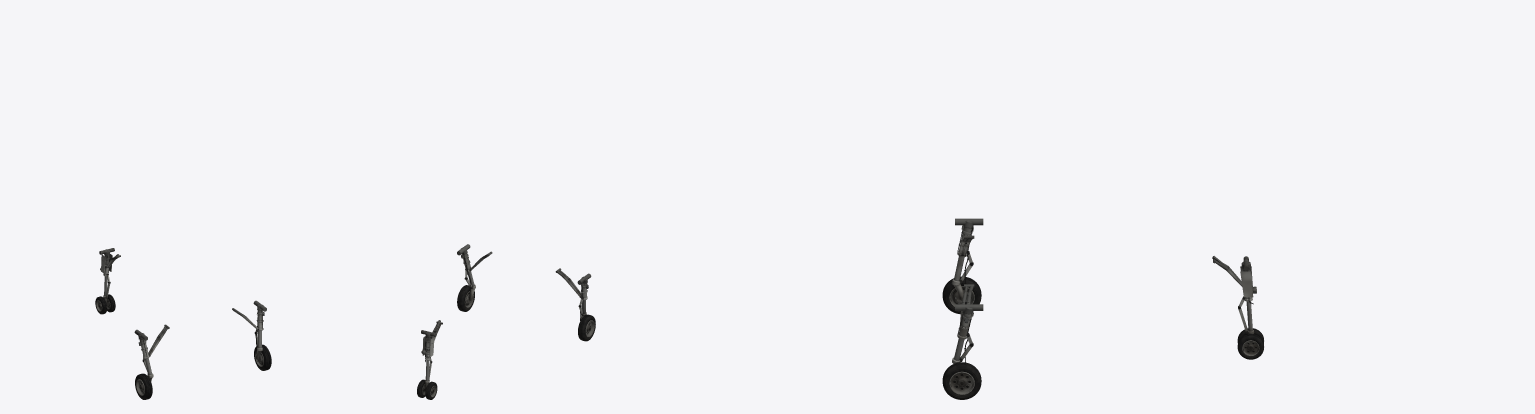
File: mirage2000d_gear.glb
3 renders of one model, left to right at view 1: azimuth 30°, elevation 25°; view 2: azimuth 150°, elevation 25°; view 3: azimuth 270°, elevation 25°, orthographic. The views are drawn at different scales.
Visible parts, largest first — view 1: gear_n, gear_m_r, gear_w_l, gear_m_l, gear_w_r; view 2: gear_n, gear_m_r, gear_w_l, gear_w_r, gear_m_l; view 3: gear_n, gear_w_r, gear_m_l, gear_m_r, gear_w_l.
Boxes of the visible parts, <box> form: gear_n: <box>95,248,115,314</box>; gear_m_r: <box>253,300,266,359</box>; gear_w_l: <box>135,373,152,399</box>; gear_m_l: <box>134,329,153,381</box>; gear_w_r: <box>254,344,271,370</box>; gear_n: <box>417,330,437,399</box>; gear_m_r: <box>457,244,475,300</box>; gear_w_l: <box>578,314,595,341</box>; gear_w_r: <box>457,285,474,311</box>; gear_m_l: <box>577,273,591,320</box>; gear_n: <box>1237,256,1263,359</box>; gear_w_r: <box>942,362,981,399</box>; gear_m_l: <box>952,218,983,299</box>; gear_m_r: <box>952,304,983,363</box>; gear_w_l: <box>942,276,981,314</box>.
Bounding box in the file's own units: 3.65 × 6.4 × 14.62.
1 material, 1 textured.
